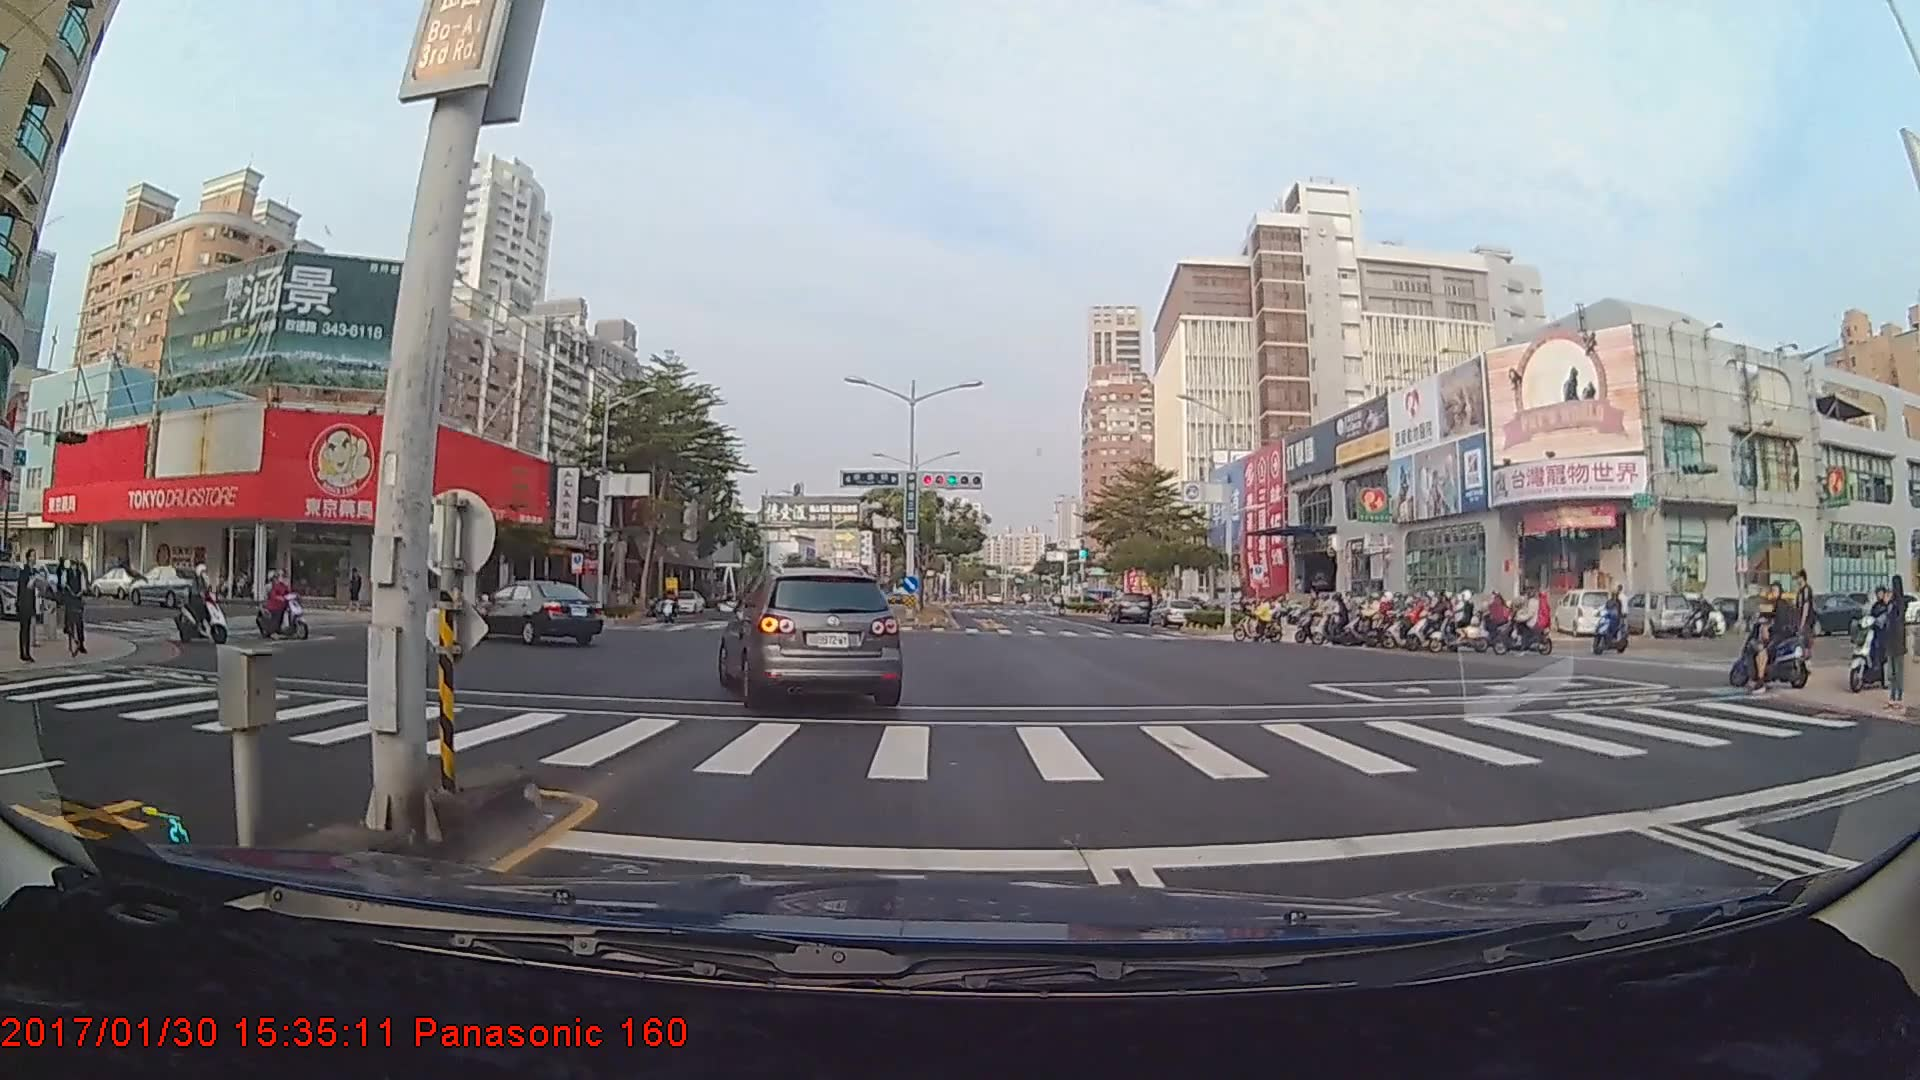pedestrian: (1878, 573, 1912, 713), (15, 551, 44, 665), (1790, 570, 1818, 679)
rider: (1724, 575, 1821, 694), (1845, 584, 1910, 692), (172, 562, 241, 649), (1491, 578, 1561, 662), (251, 574, 314, 642), (53, 555, 85, 662), (1444, 590, 1495, 653), (1287, 592, 1346, 645), (1416, 592, 1469, 646), (1592, 592, 1636, 655), (1343, 595, 1393, 649), (1231, 596, 1288, 643), (1390, 600, 1437, 647), (657, 584, 685, 621)
vehicle: (717, 566, 905, 708), (470, 580, 604, 647), (127, 564, 210, 607), (1107, 592, 1150, 624)
